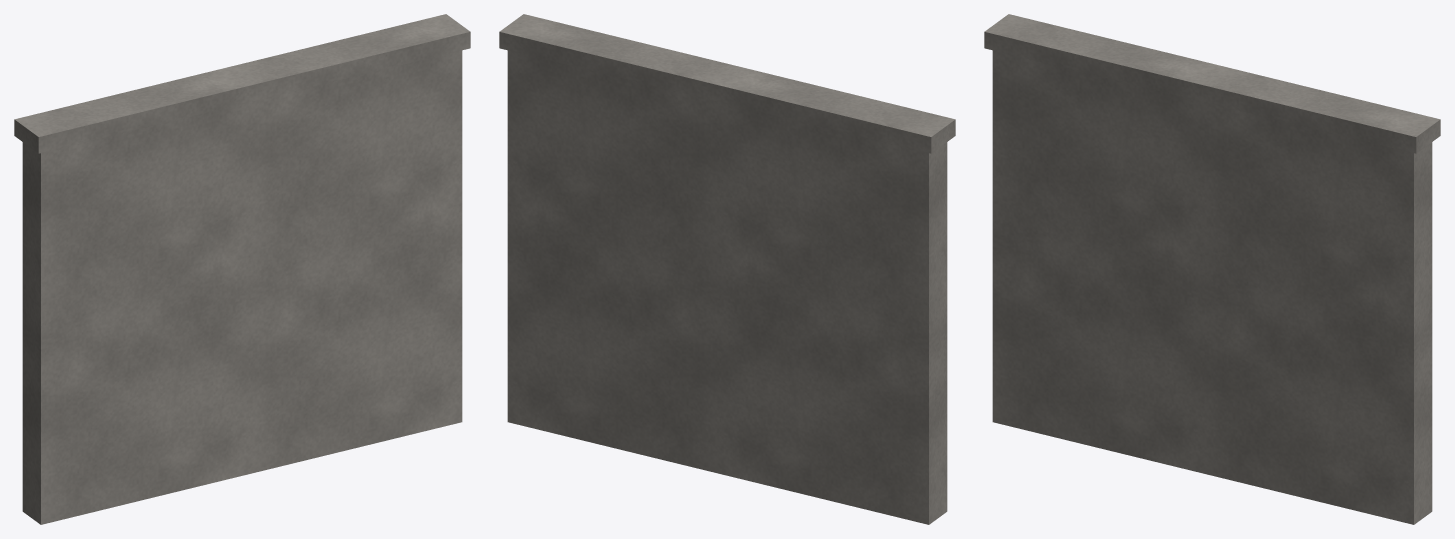
The model's file is Prop_Wall.fbx.
3 views of the same model, side by side, from view 1: azimuth 30°, elevation 25°; view 2: azimuth 150°, elevation 25°; view 3: azimuth 330°, elevation 25° (orthographic).
Parts seen in each view (by area): view 1: Prop_Wall; view 2: Prop_Wall; view 3: Prop_Wall.
Boxes of the visible parts, x1,y1,x2,y2 form: Prop_Wall: [14, 14, 470, 524]; Prop_Wall: [499, 14, 955, 524]; Prop_Wall: [984, 14, 1440, 524].
Size of the model in its own units: 4.1 by 3.55 by 0.4.
